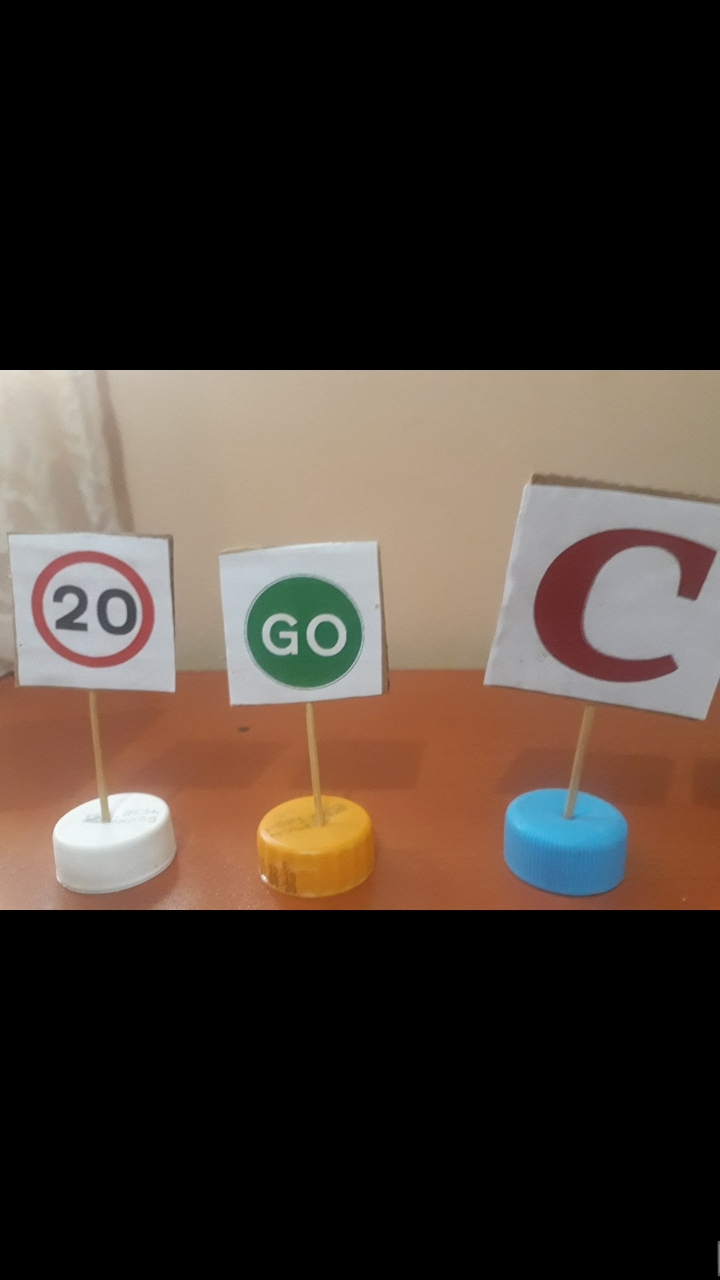20 kph: (14, 539, 169, 692)
go: (226, 557, 375, 704)
zone C: (528, 504, 718, 725)
